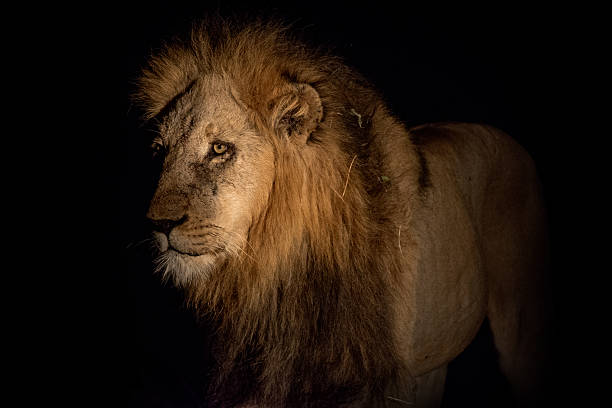lion: (69, 14, 441, 407)
